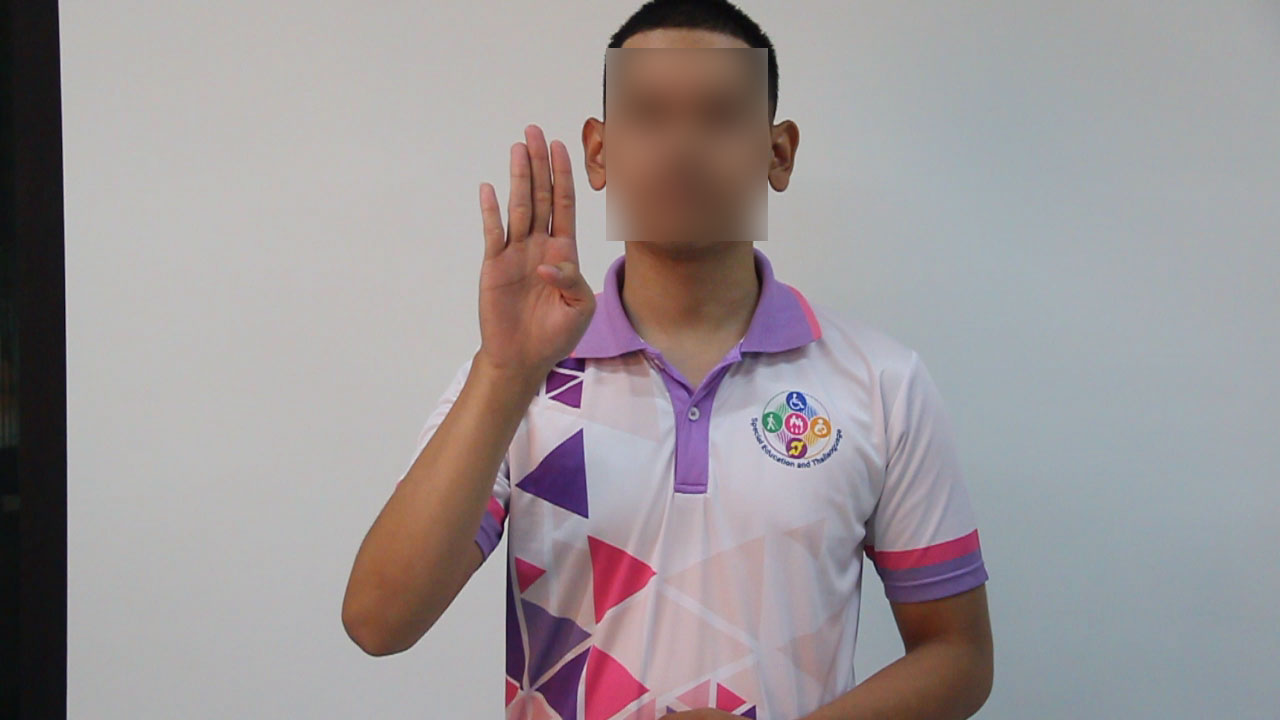bor: (448, 109, 606, 404)
